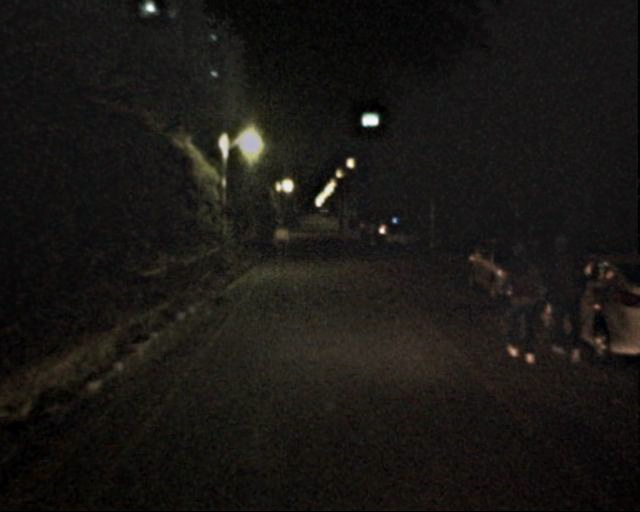person: (535, 236, 591, 363), (494, 242, 550, 368), (269, 218, 293, 271), (337, 215, 358, 242), (366, 221, 380, 255)
